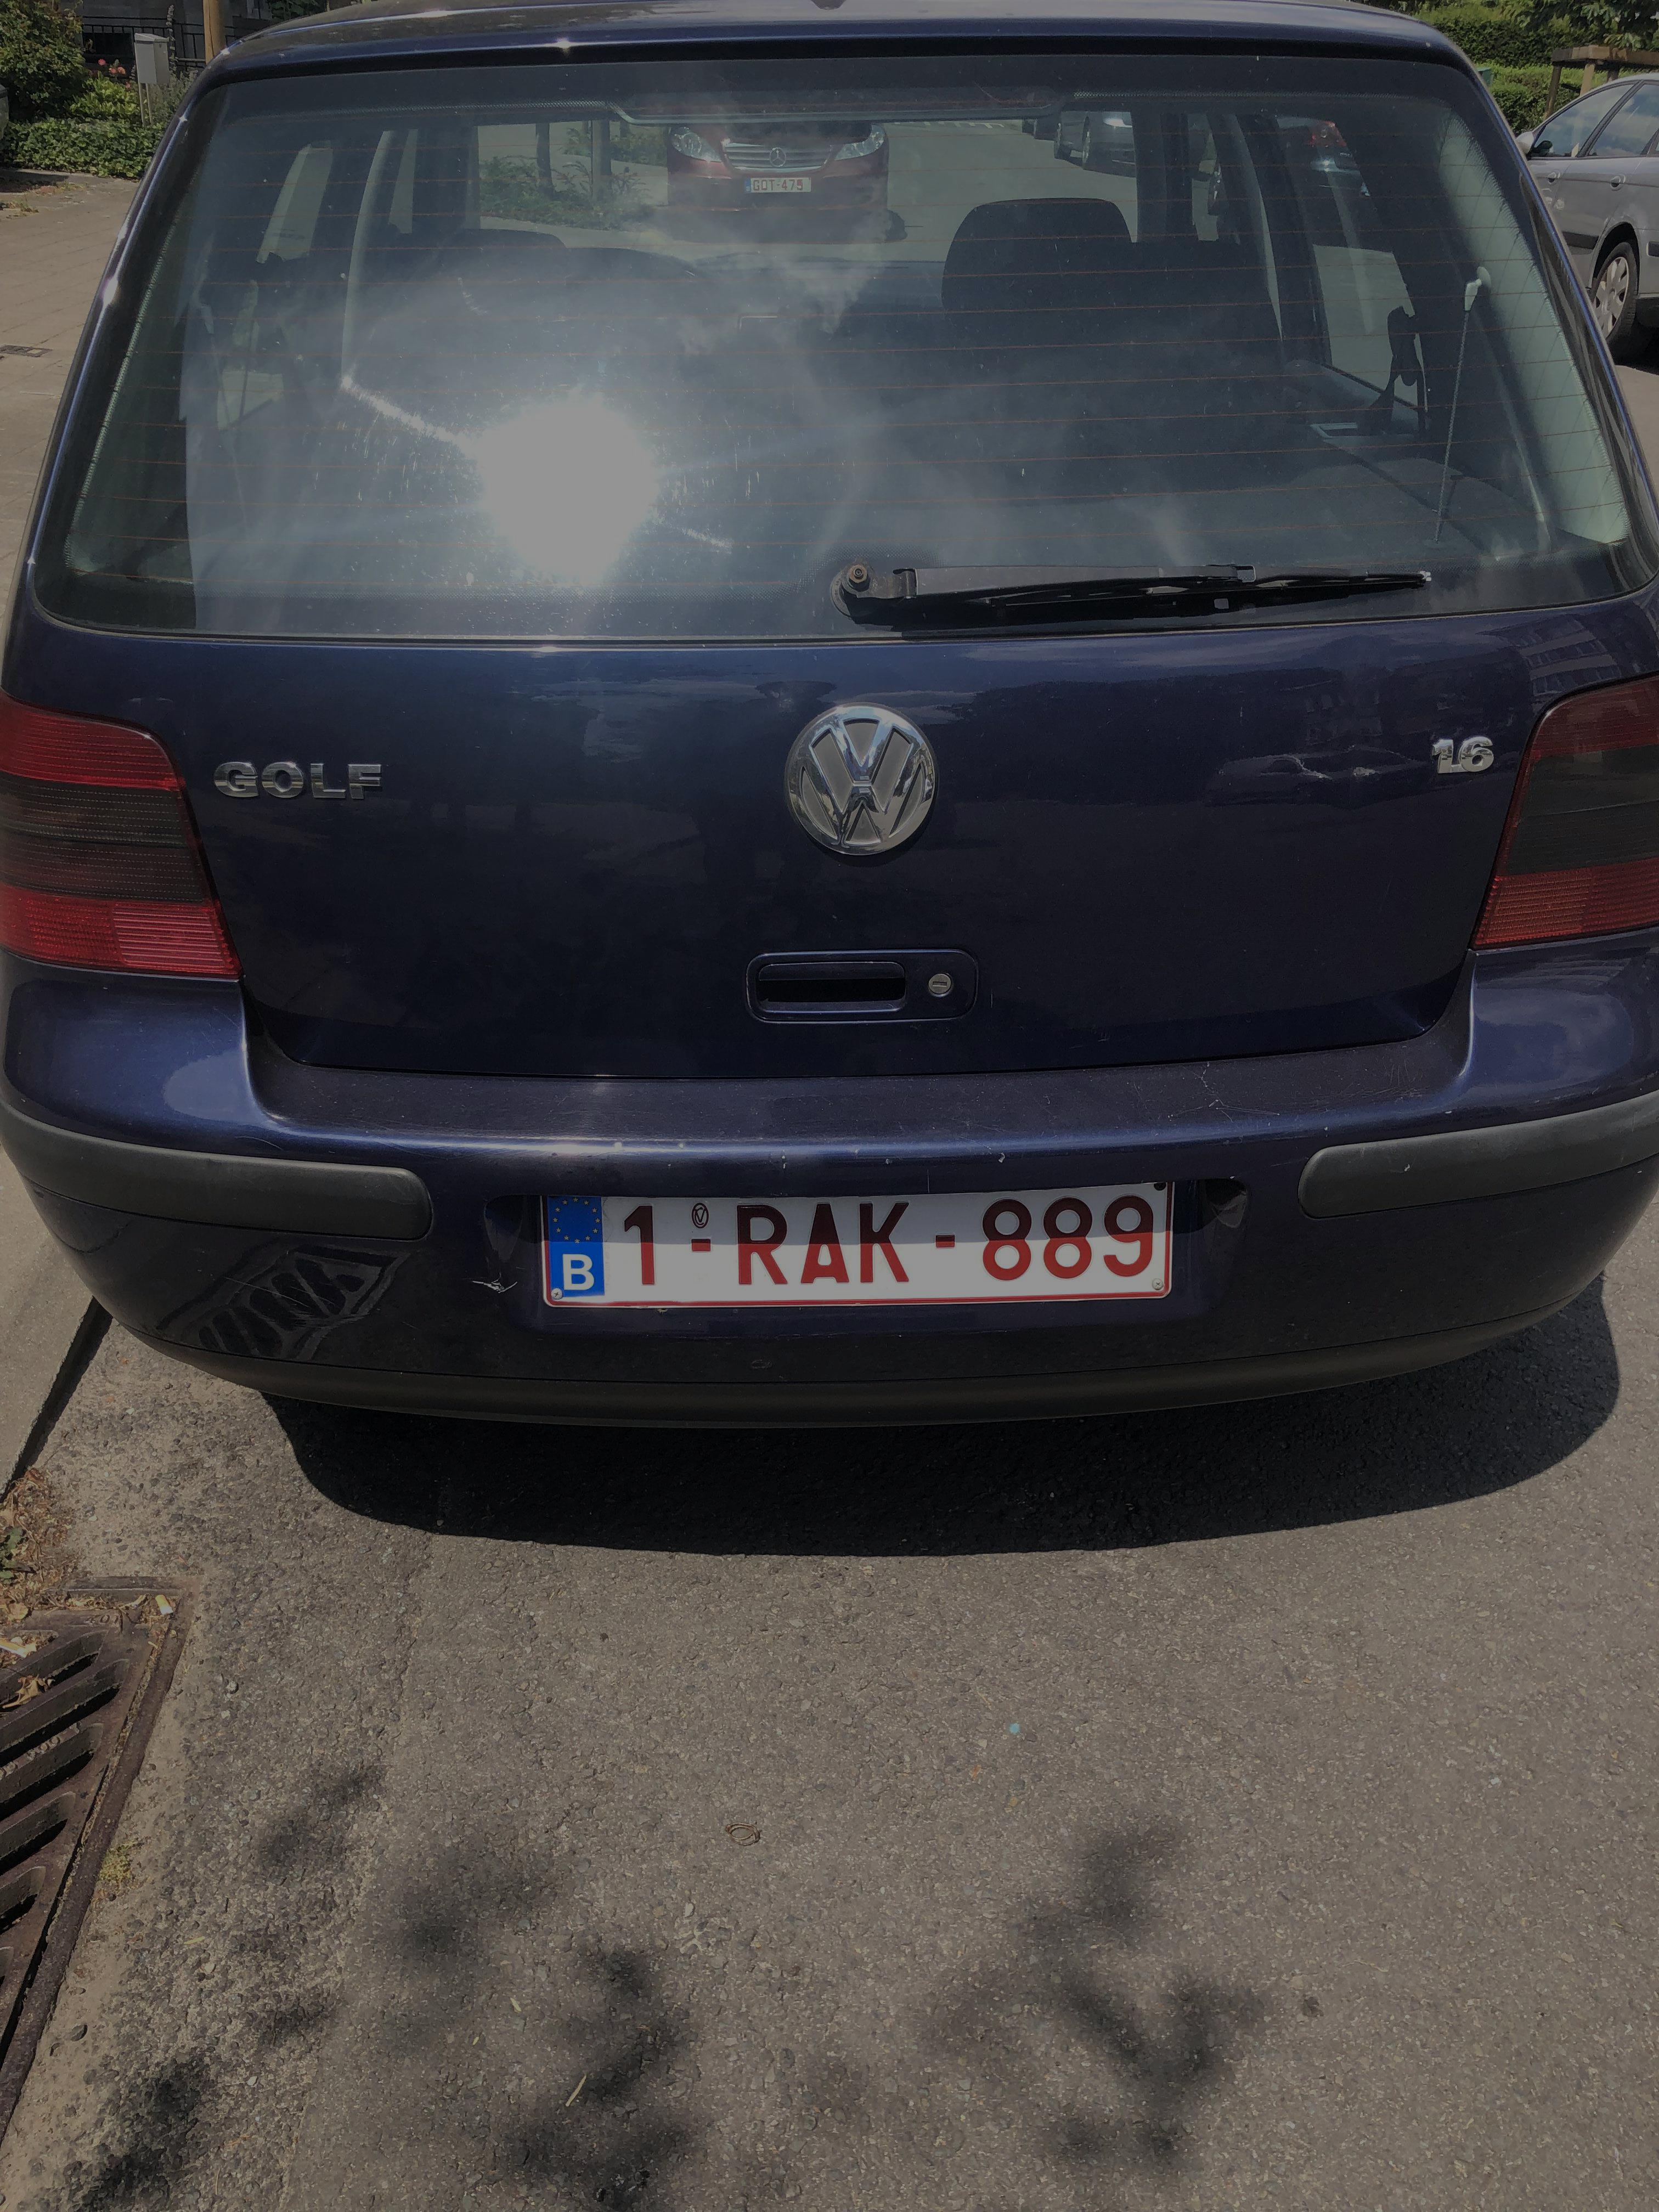plate: (504, 1150, 1200, 1319)
